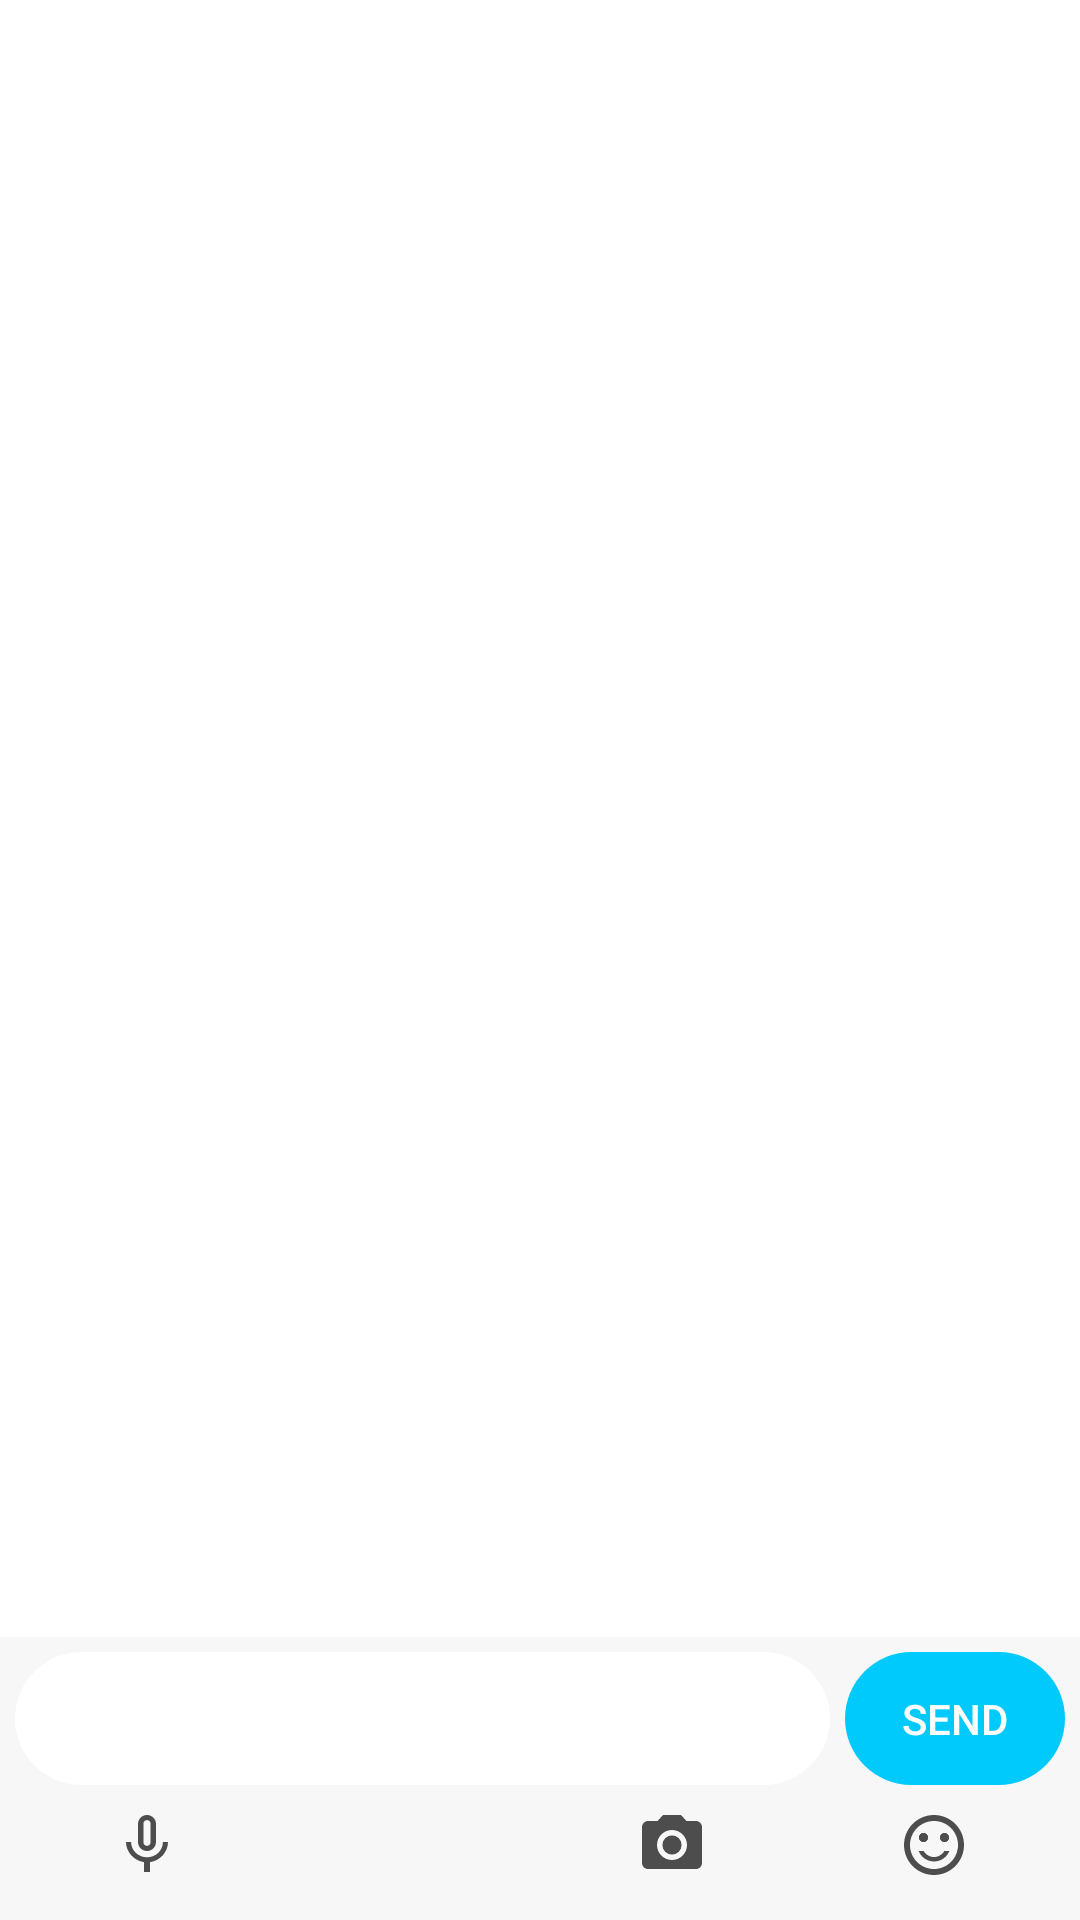

Locate icon controls on the screen. Image size 1080 × 1920, boxes as (x1, y1, x2, y2).
camera: (642, 1815, 702, 1869)
mic: (126, 1815, 168, 1872)
sentiment: (904, 1815, 964, 1875)
